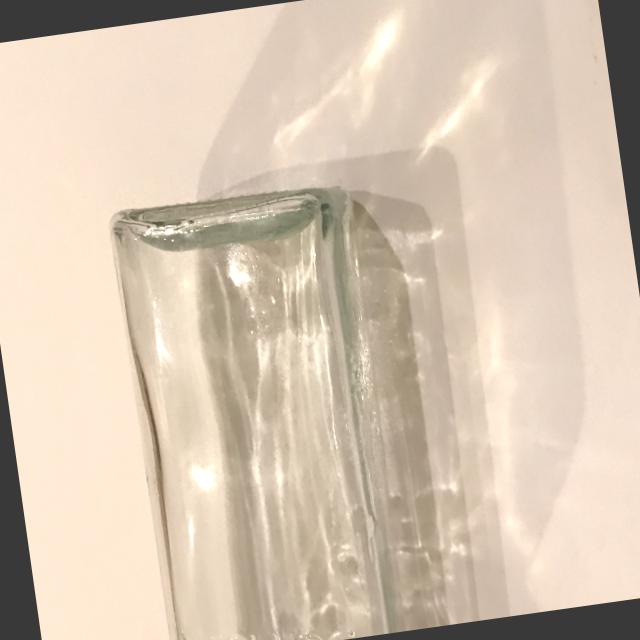Glass: (74, 152, 447, 640)
